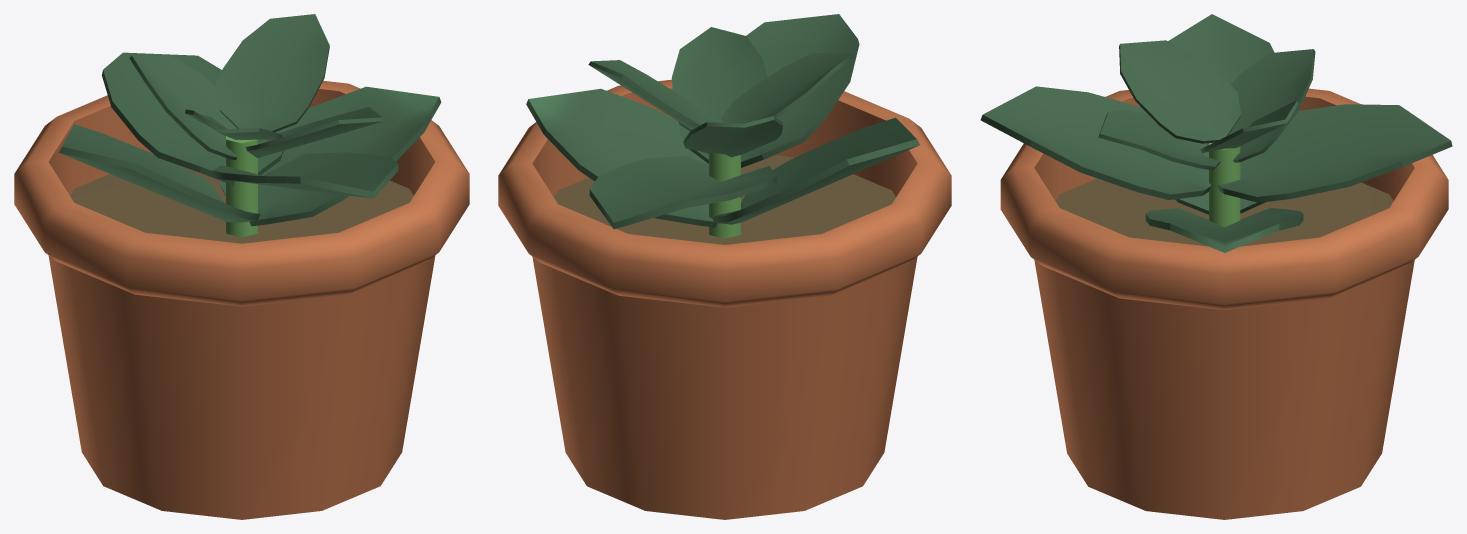
The model's file is PIANTA.fbx.
The picture shows the model from 3 angles, left to right: view 1: azimuth 30°, elevation 25°; view 2: azimuth 150°, elevation 25°; view 3: azimuth 270°, elevation 25°; orthographic projection.
Visible parts, largest first — view 1: Pianta; view 2: Pianta; view 3: Pianta.
Boxes of the visible parts, x1,y1,x2,y2 form: Pianta: [14, 14, 469, 519]; Pianta: [498, 14, 951, 519]; Pianta: [980, 14, 1452, 519].
Bounding box in the file's own units: 2.86 × 2.69 × 3.
